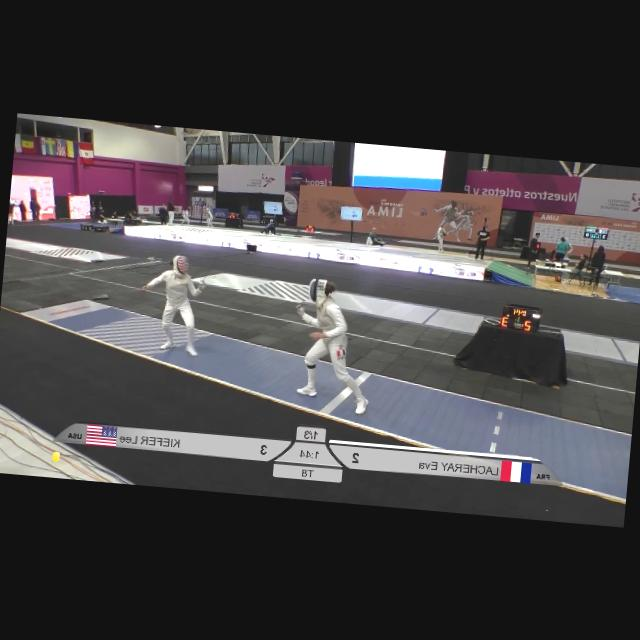blade: (197, 258, 214, 290)
